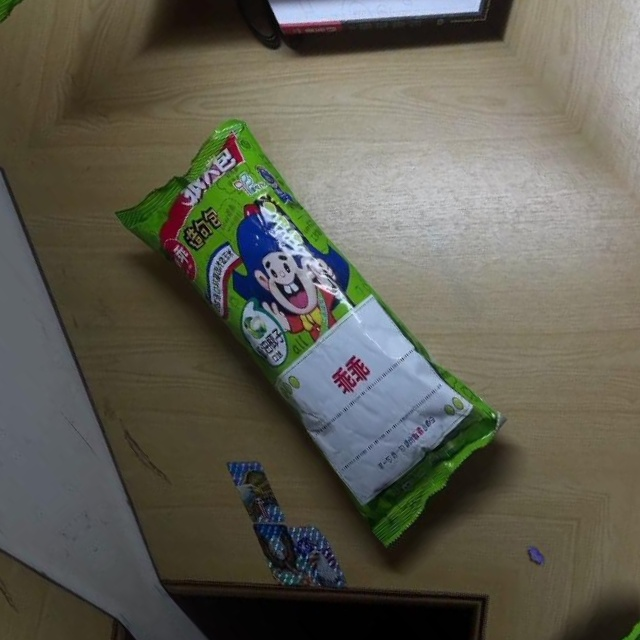Good-Luck: (107, 103, 520, 547)
